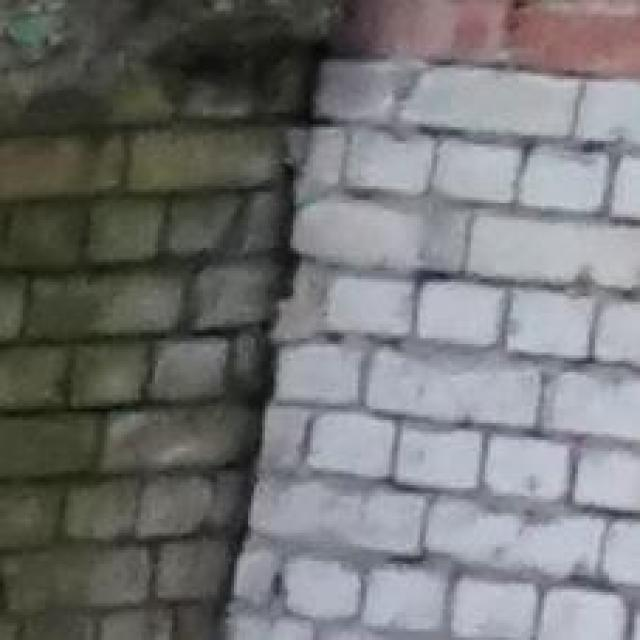Crack: (196, 0, 389, 640)
